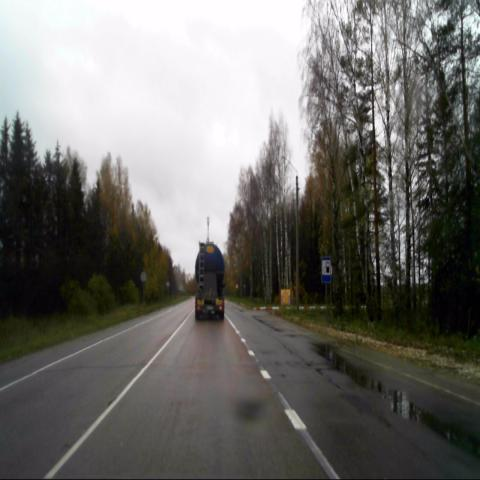7_3: (321, 256, 331, 283)
